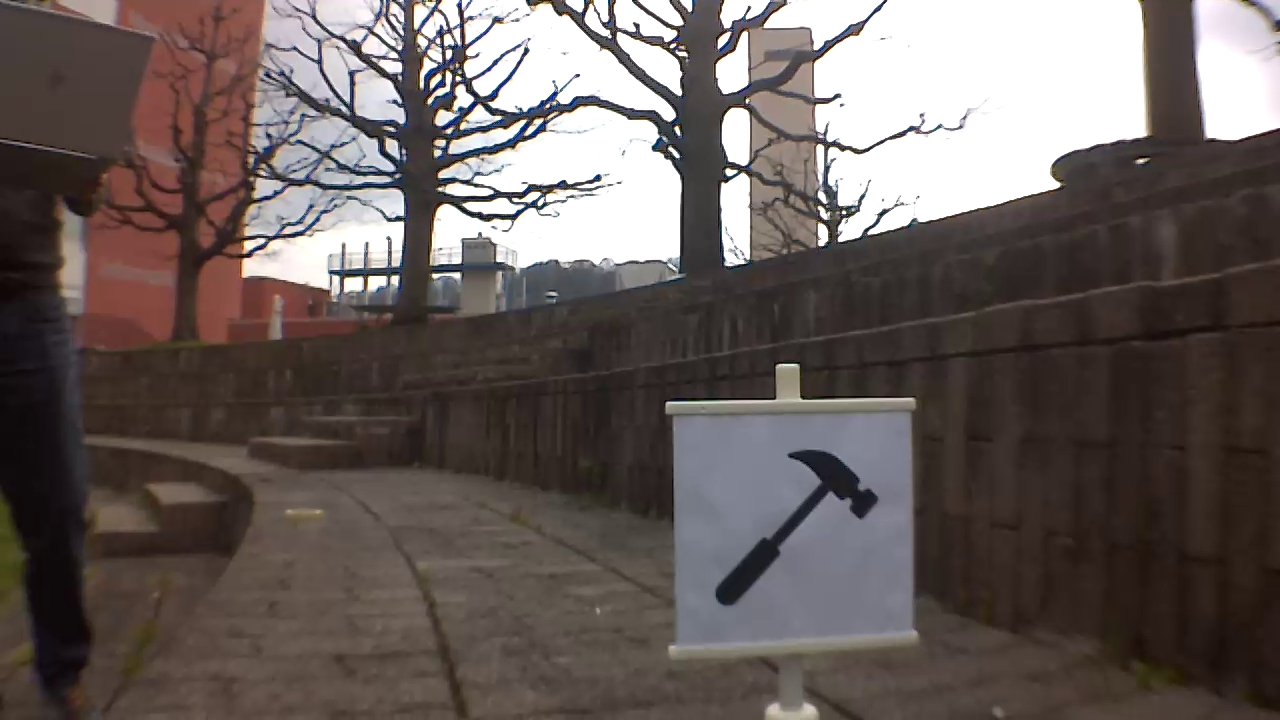hammer: (710, 447, 885, 614)
